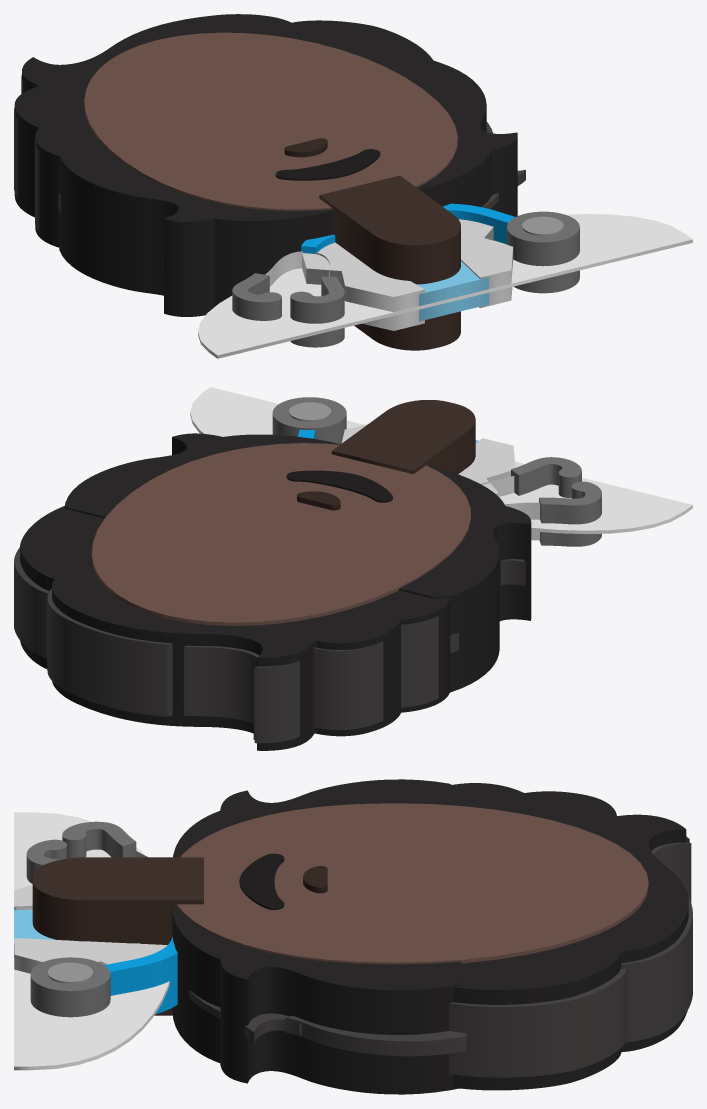
The model's file is emoji_u1f9d1_1f3ff_200d_2695.glb.
The picture shows the model from 3 angles, top to bottom: view 1: azimuth 30°, elevation 25°; view 2: azimuth 150°, elevation 25°; view 3: azimuth 270°, elevation 25°; orthographic projection. The views are drawn at different scales.
Parts seen in each view (by area): view 1: emoji_u1f9d1_1f3ff_200d_2695; view 2: emoji_u1f9d1_1f3ff_200d_2695; view 3: emoji_u1f9d1_1f3ff_200d_2695.
Boxes of the visible parts, x1=… form: emoji_u1f9d1_1f3ff_200d_2695: x1=14, y1=14, x2=692, y2=358; emoji_u1f9d1_1f3ff_200d_2695: x1=14, y1=387, x2=692, y2=750; emoji_u1f9d1_1f3ff_200d_2695: x1=14, y1=779, x2=692, y2=1094.
Bounding box in the file's own units: 0.0293 × 0.0064 × 0.0331.
